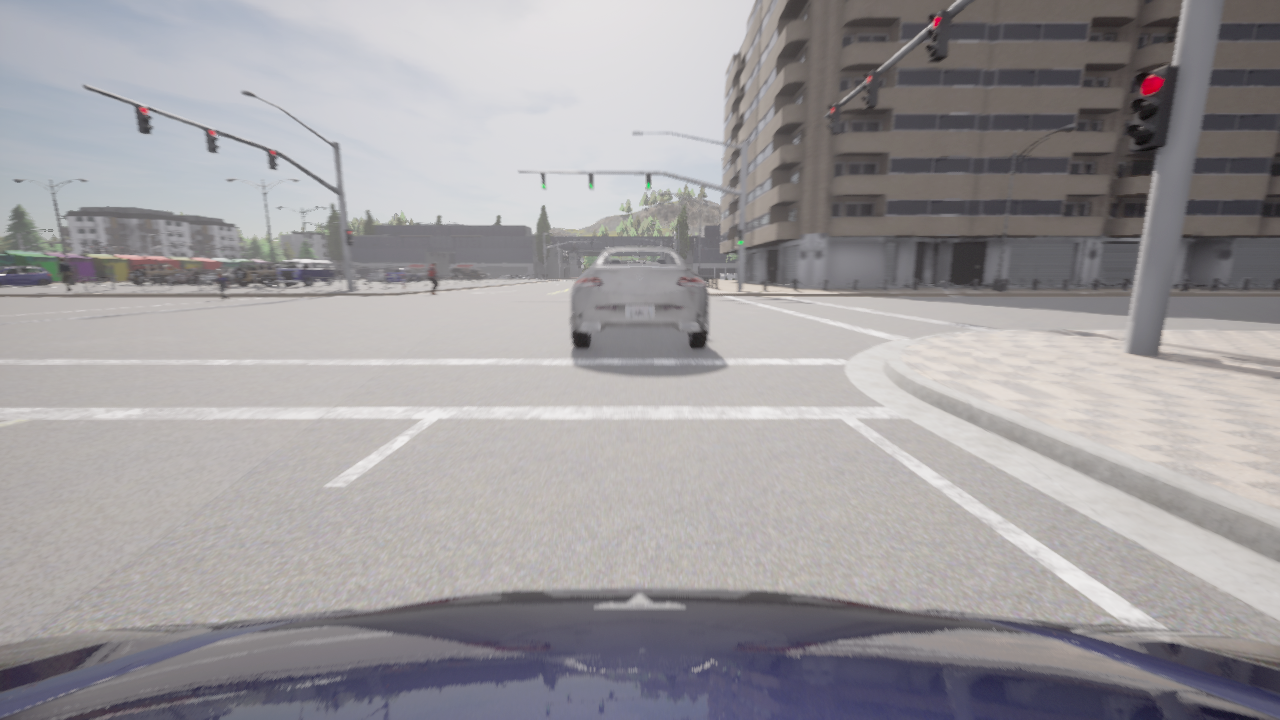cyclist: (0, 588, 1279, 719), (571, 247, 708, 349), (233, 262, 298, 287), (277, 260, 336, 287), (127, 264, 179, 285), (165, 269, 211, 284), (200, 269, 237, 284), (385, 268, 422, 283), (367, 270, 387, 281), (468, 268, 488, 279), (450, 268, 467, 279), (416, 271, 428, 280), (334, 268, 342, 279), (220, 266, 238, 268), (207, 270, 215, 272)
pedestrian: (57, 257, 72, 292), (215, 272, 229, 301), (428, 262, 439, 294), (399, 276, 408, 295)
